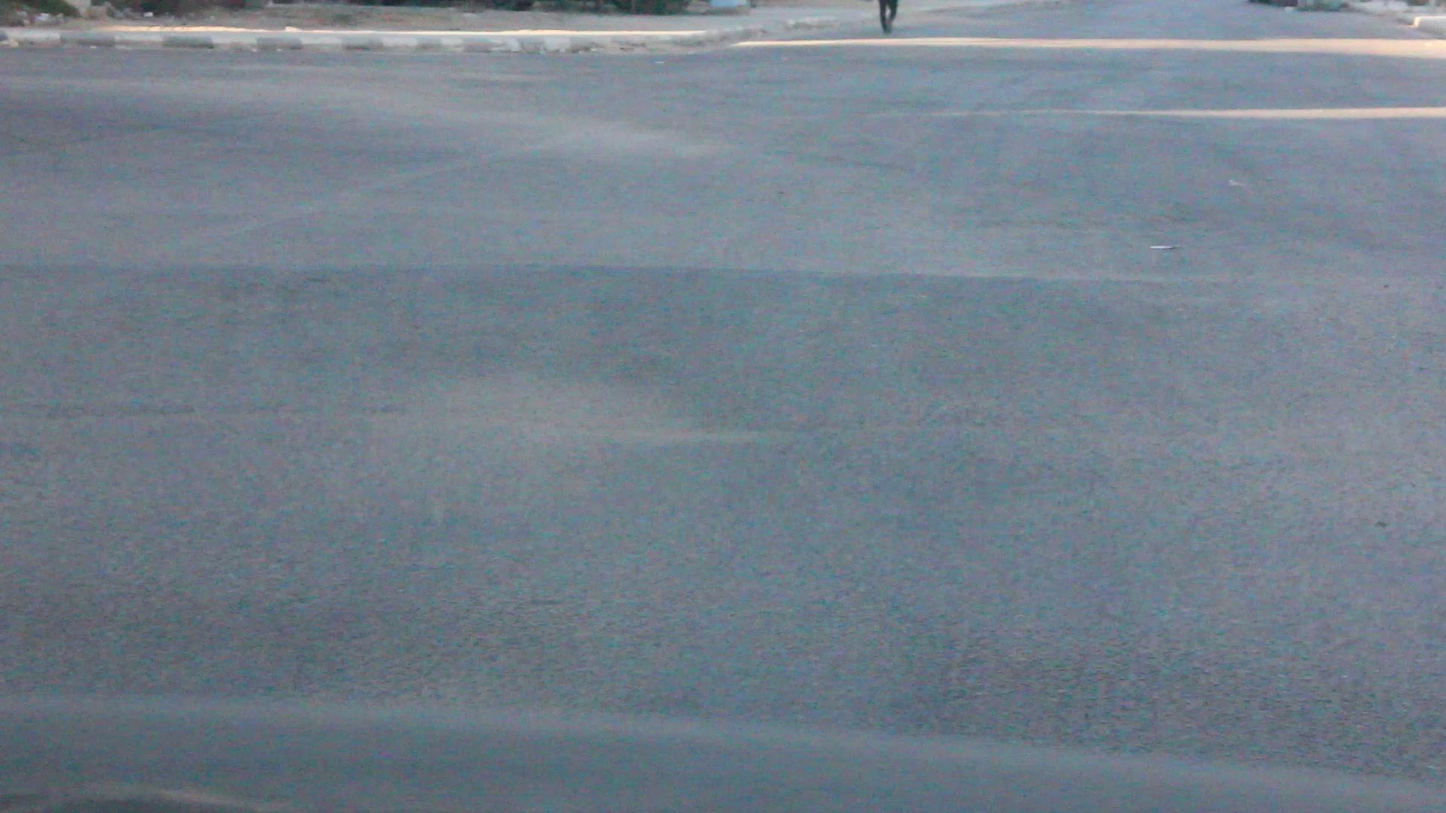Bump: (4, 243, 1446, 420)
